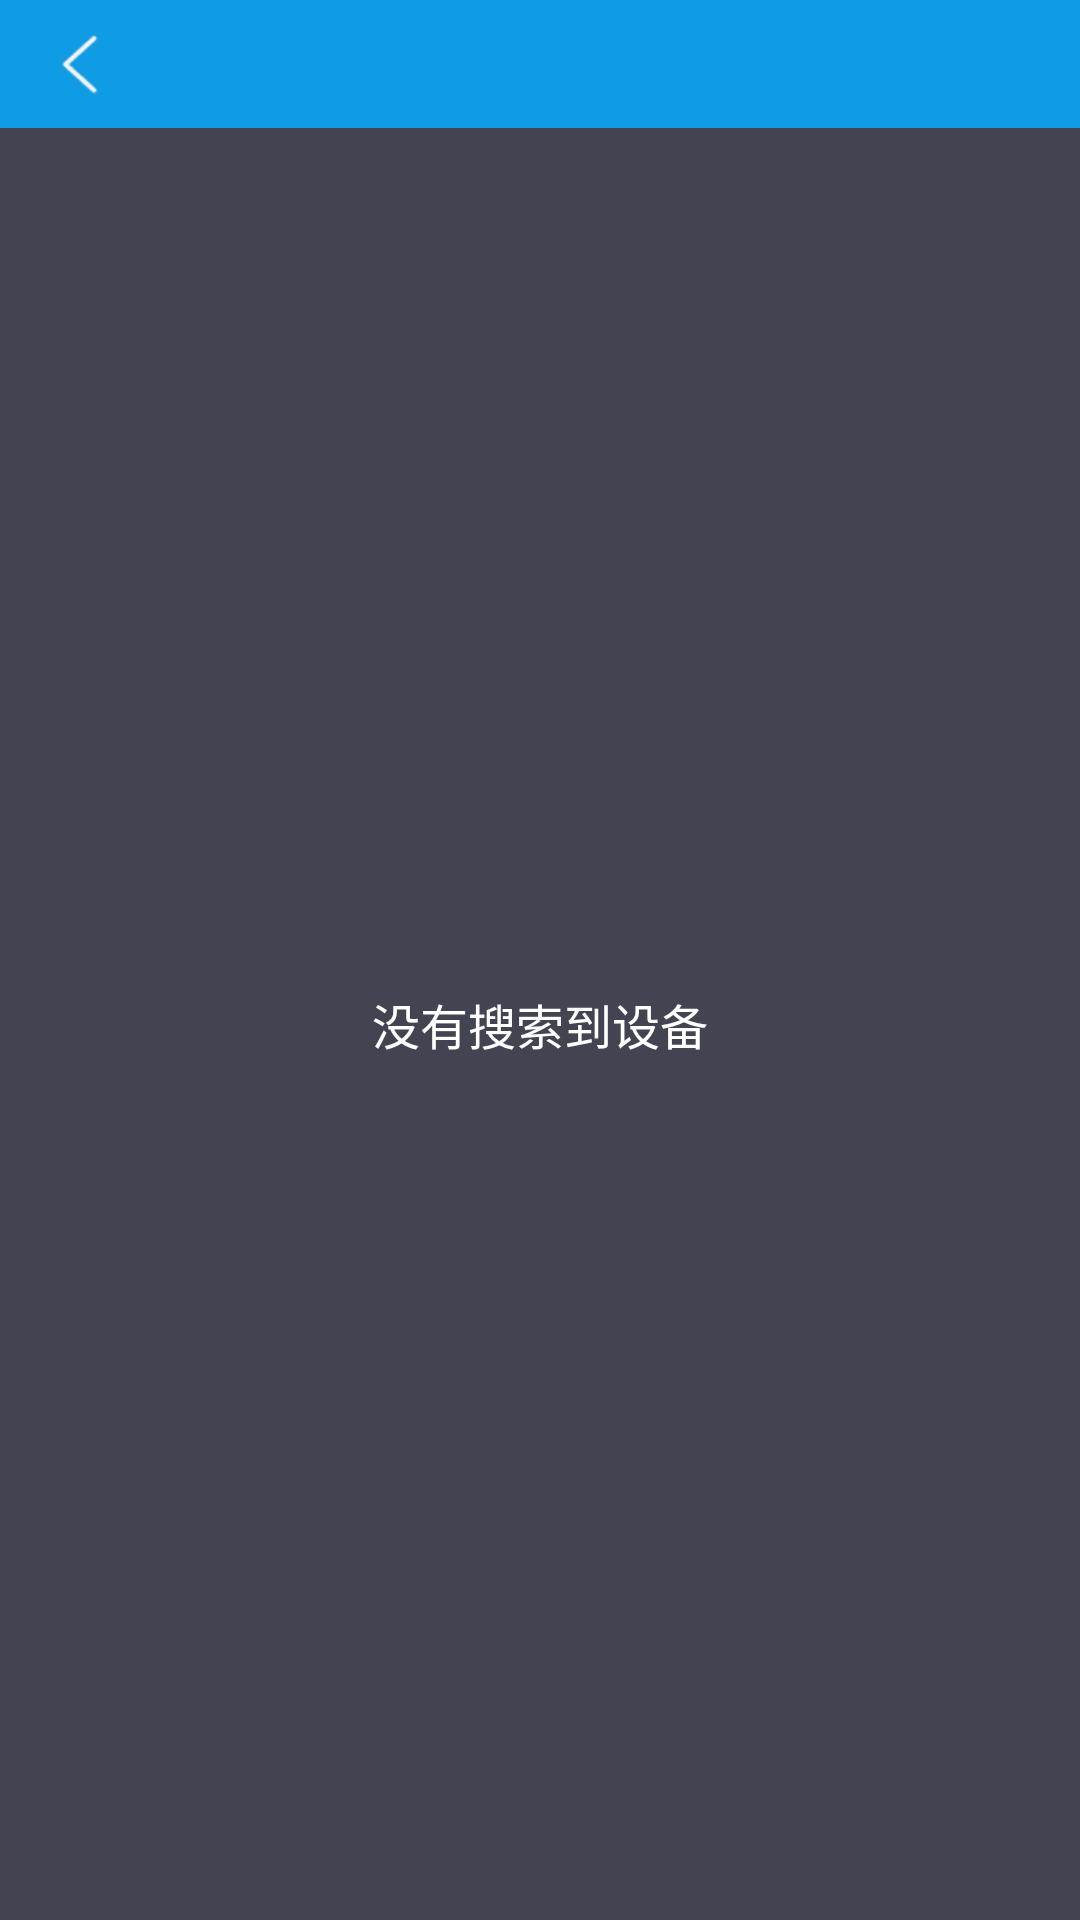

Where icons sit on this 1080 x 1920 app screen, as (x1, y1, x2, y2):
back: (62, 35, 98, 94)
